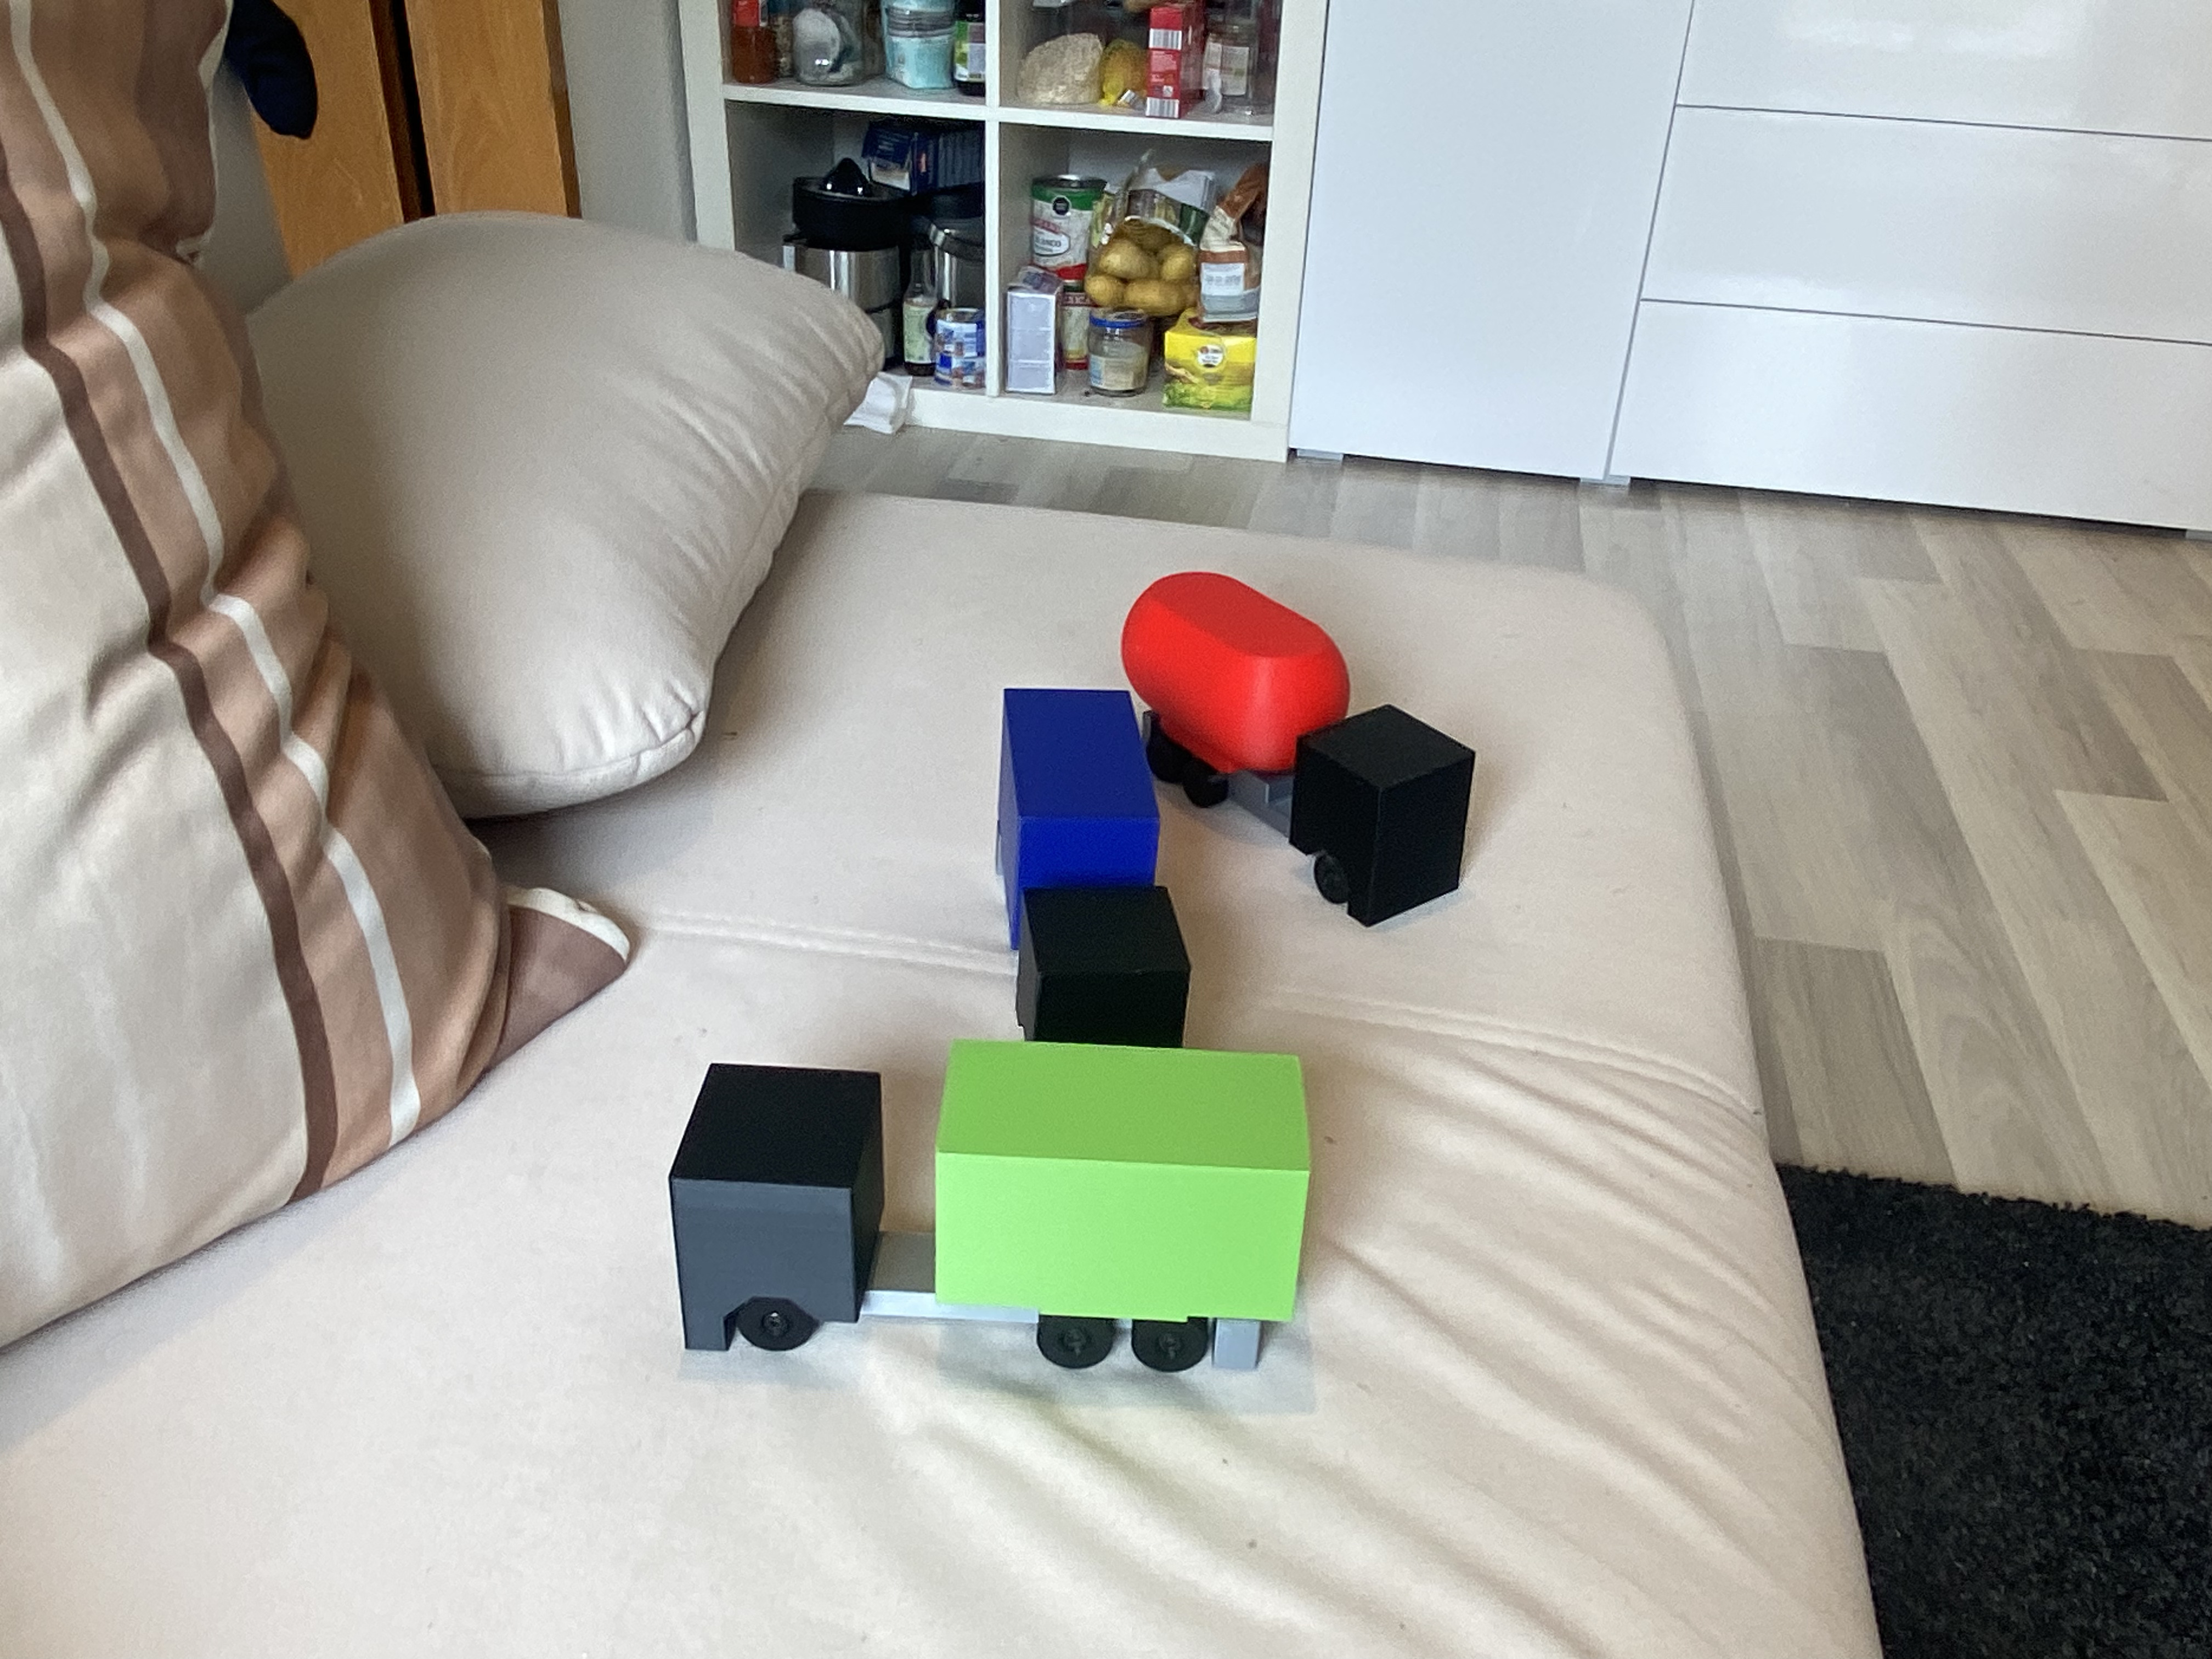blue_truck: (914, 765, 1270, 965)
green_truck: (665, 1042, 1320, 1377)
red_truck: (1083, 633, 1517, 852)
